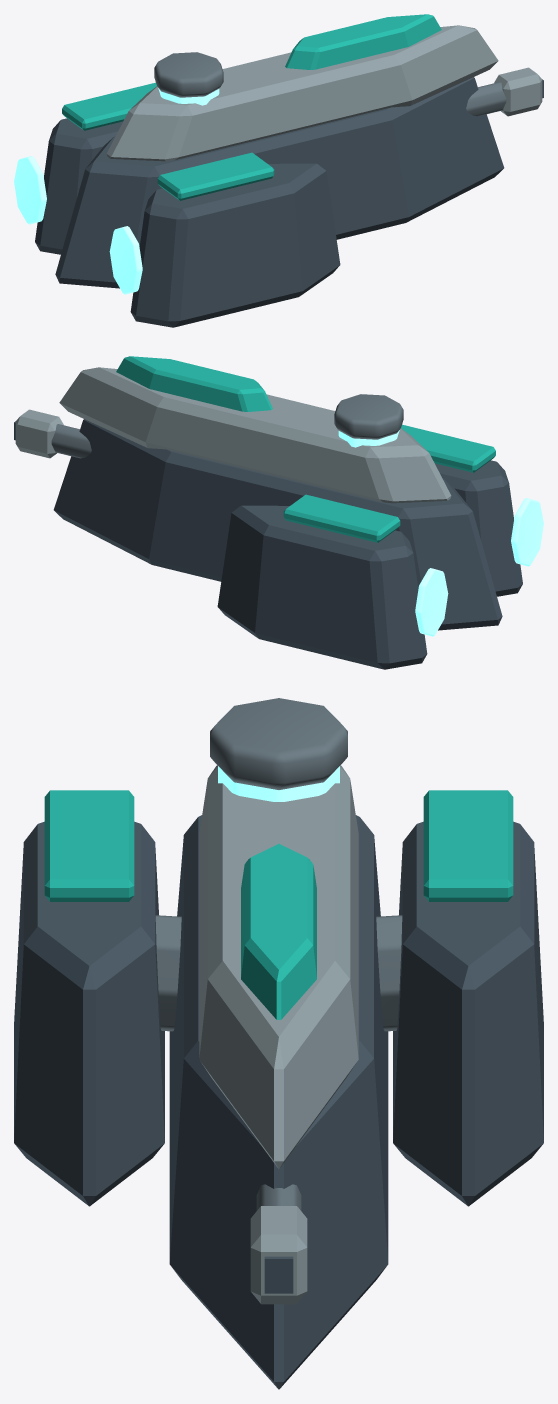
Rendered from SM_Skim.fbx.
3 renders of one model, top to bottom at view 1: azimuth 30°, elevation 25°; view 2: azimuth 150°, elevation 25°; view 3: azimuth 270°, elevation 25°, orthographic. The views are drawn at different scales.
Parts seen in each view (by area): view 1: SM_Skim; view 2: SM_Skim; view 3: SM_Skim.
Boxes of the visible parts, x1,y1,x2,y2 form: SM_Skim: (14, 14, 543, 327); SM_Skim: (14, 356, 543, 669); SM_Skim: (14, 698, 543, 1389).
Size of the model in its own units: 36 by 17.29 by 14.
